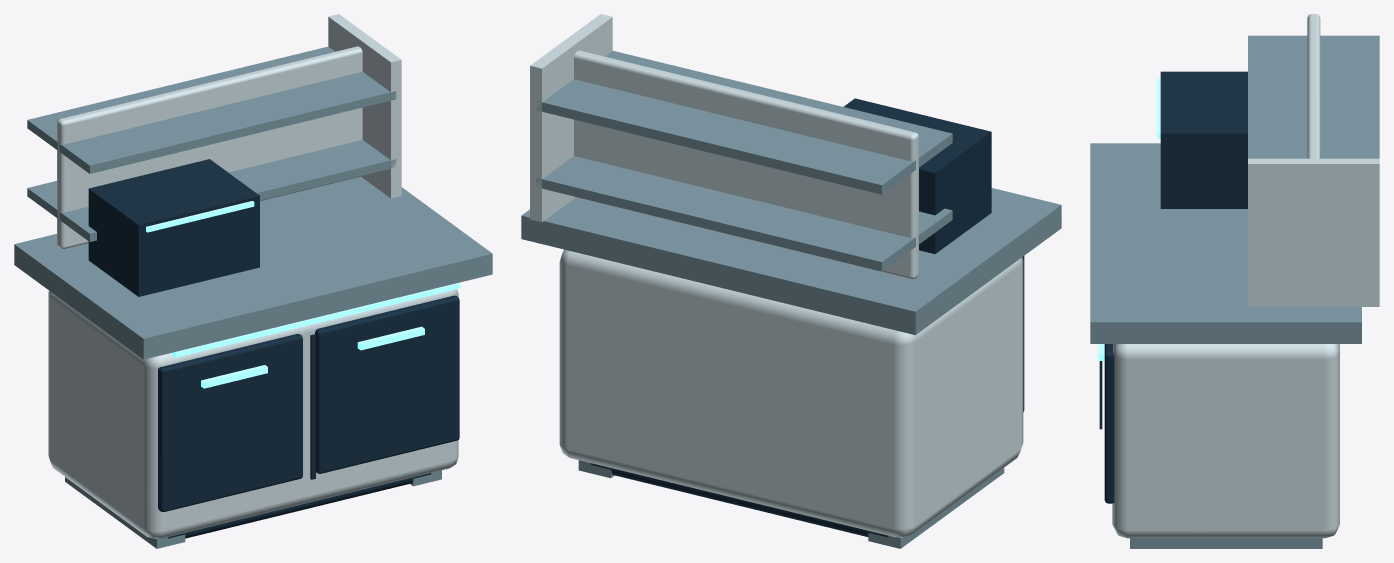
File: kitchencabinet.glb
3 views of the same model, side by side, from view 1: azimuth 30°, elevation 25°; view 2: azimuth 150°, elevation 25°; view 3: azimuth 270°, elevation 25° (orthographic). The views are drawn at different scales.
Parts seen in each view (by area): view 1: atelier-cyber-kitchencabinet; view 2: atelier-cyber-kitchencabinet; view 3: atelier-cyber-kitchencabinet.
Boxes of the visible parts, bbox=[...] form: atelier-cyber-kitchencabinet: bbox=[14, 14, 492, 548]; atelier-cyber-kitchencabinet: bbox=[521, 14, 1061, 548]; atelier-cyber-kitchencabinet: bbox=[1090, 14, 1379, 548].
Size of the model in its own units: 0.9757 by 1 by 0.6667.
